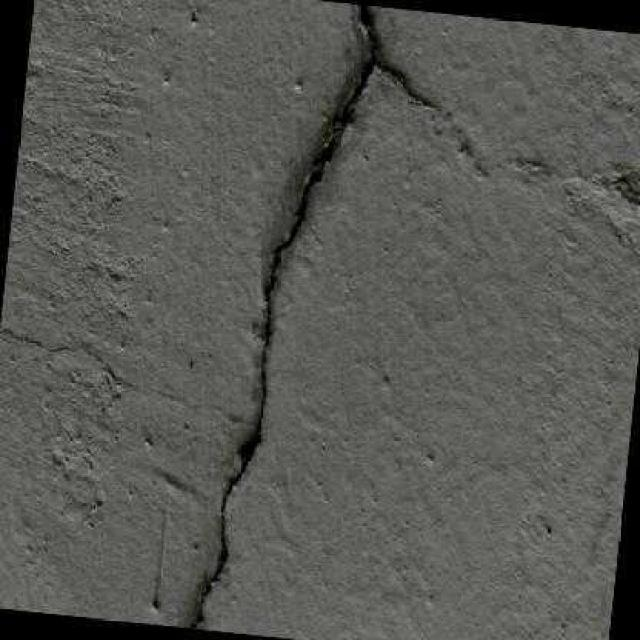D00: (185, 2, 376, 629)
